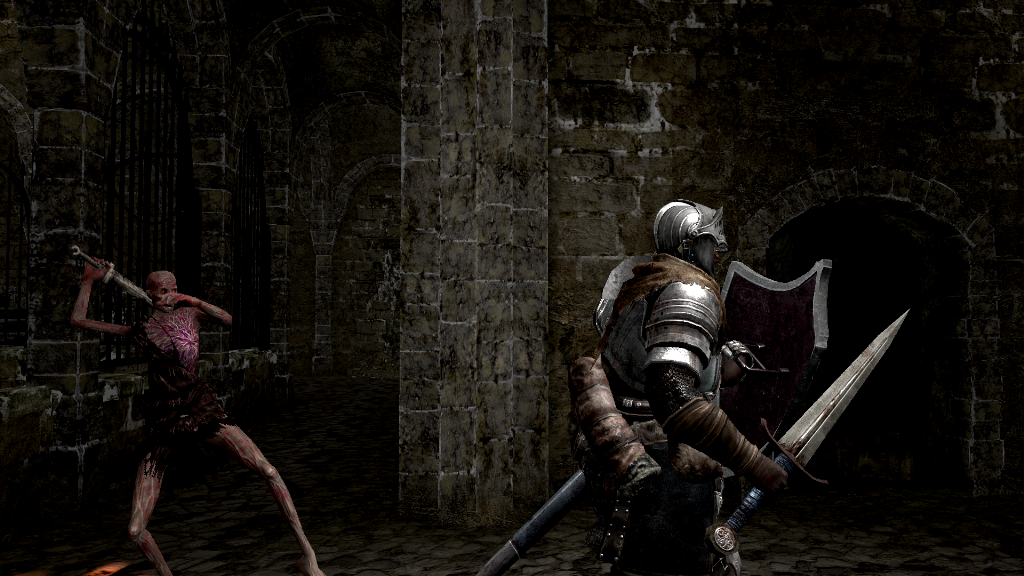hollow: (69, 253, 325, 576)
player: (567, 196, 913, 576)
